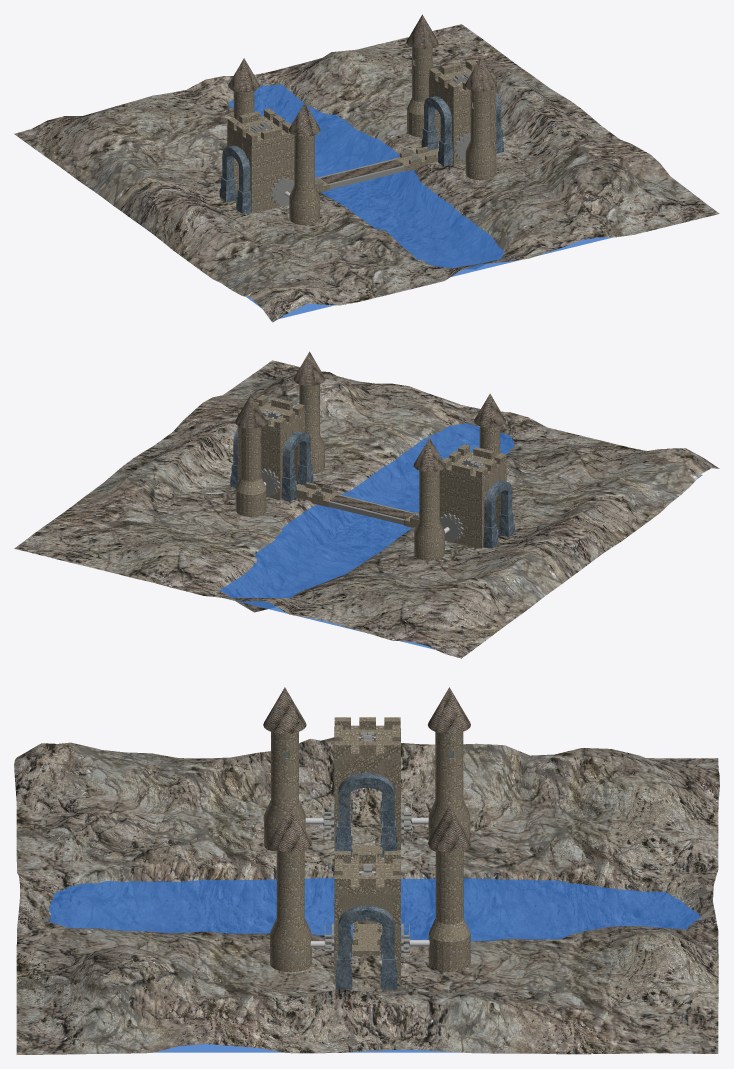
File: BoyceBridge.fbx
3 renders of one model, top to bottom at view 1: azimuth 30°, elevation 25°; view 2: azimuth 150°, elevation 25°; view 3: azimuth 270°, elevation 25°, orthographic. The views are drawn at different scales.
Visible parts, largest first — view 1: floor, Water, Building2, Tower5, Tower8, Building1, Tower6, Arch2, Arch, Tower7, bridge, pCube1; view 2: floor, Water, Building2, Tower6, Tower7, Building1, Tower5, Arch, Arch2, Tower8, bridge, pCube1; view 3: floor, Water, Tower6, Tower5, Building2, Building1, Tower7, Tower8, Arch3, Arch1, bridge.
Part boxes in pixels (box(x1,y1,x2,y2)): floor: box(14, 24, 719, 322); Water: box(228, 84, 612, 318); Building2: box(227, 108, 294, 212); Tower5: box(465, 57, 496, 180); Tower8: box(288, 102, 320, 225); Building1: box(429, 59, 496, 164); Tower6: box(406, 14, 438, 137); Arch2: box(219, 145, 251, 213); Arch: box(421, 96, 452, 166); Tower7: box(228, 58, 259, 121); bridge: box(357, 146, 438, 179); pCube1: box(320, 159, 403, 183); floor: box(14, 360, 719, 658); Water: box(219, 423, 702, 649); Building2: box(440, 444, 506, 548); Tower6: box(235, 394, 266, 516); Tower7: box(413, 438, 445, 560); Building1: box(237, 395, 304, 500); Tower5: box(293, 351, 325, 473); Arch: box(281, 431, 313, 501); Arch2: box(483, 480, 514, 548); Tower8: box(474, 393, 505, 456); bridge: box(296, 482, 376, 515); pCube1: box(330, 495, 413, 519); floor: box(14, 737, 719, 1054); Water: box(49, 877, 700, 1052); Tower6: box(428, 805, 471, 971); Tower5: box(269, 805, 312, 972); Building2: box(334, 717, 400, 850); Building1: box(334, 851, 400, 983); Tower7: box(428, 687, 470, 851); Tower8: box(263, 687, 306, 850); Arch3: box(335, 906, 397, 989); Arch1: box(335, 773, 397, 857); bridge: box(353, 921, 381, 955).
Size of the model in its own units: 42.2 by 13.31 by 42.26.
